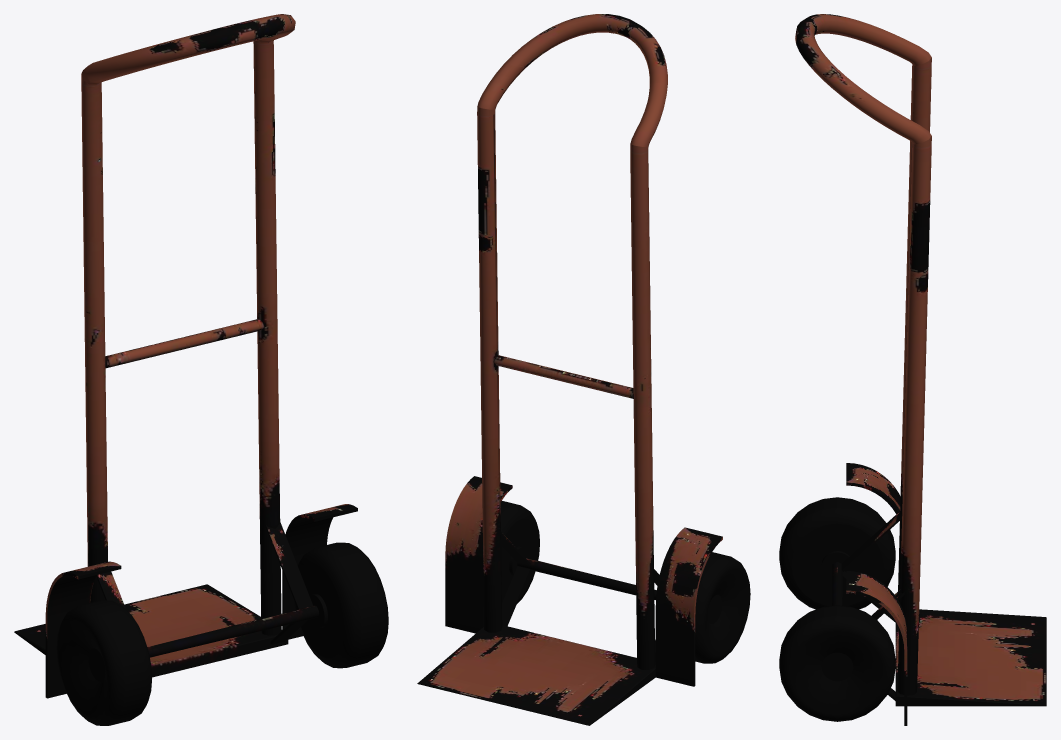
3 views of the same model, side by side, from view 1: azimuth 30°, elevation 25°; view 2: azimuth 150°, elevation 25°; view 3: azimuth 270°, elevation 25° (orthographic). The views are drawn at different scales.
Visible parts, largest first — view 1: body0_model0_lod0_mesh0; view 2: body0_model0_lod0_mesh0; view 3: body0_model0_lod0_mesh0.
Boxes of the visible parts, box(x1,y1,x2,y2) form: body0_model0_lod0_mesh0: box(14, 14, 388, 725); body0_model0_lod0_mesh0: box(417, 14, 750, 725); body0_model0_lod0_mesh0: box(779, 14, 1046, 725).
Bounding box in the file's own units: 36.4 × 84.48 × 32.2.
Materials: 1 (1 with a texture image).
